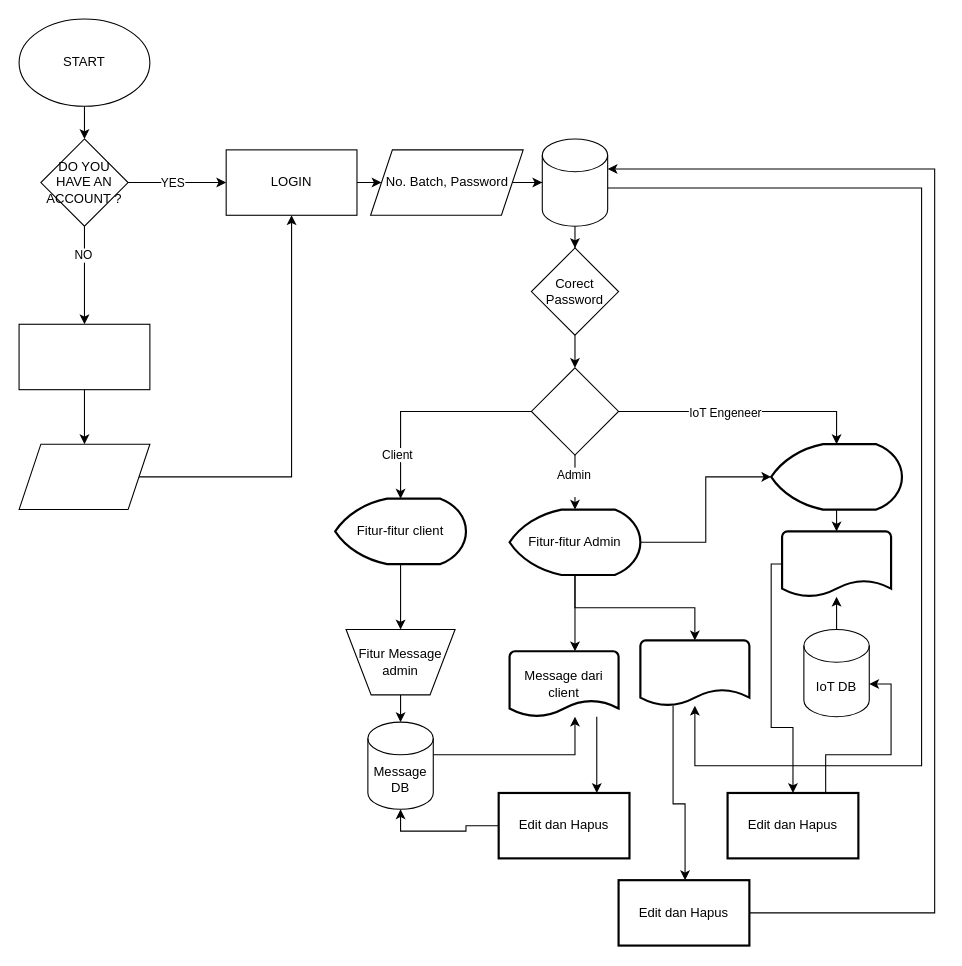
This 962x966 diagram has some shape labels left out. The shapes that lost their labels are listed below. From the top down, each one's box as (x1, y1, x2, y2) in pixels, then its label:
(541, 138, 608, 226): User DB
(18, 323, 150, 390): SIGN IN
(530, 367, 619, 455): What Batch ?
(18, 443, 150, 510): No Batch, Email, Password
(770, 443, 903, 510): Fitur-Fitur IoT User
(780, 530, 892, 597): Stok Komponen IoT
(639, 639, 750, 706): Data-data User
